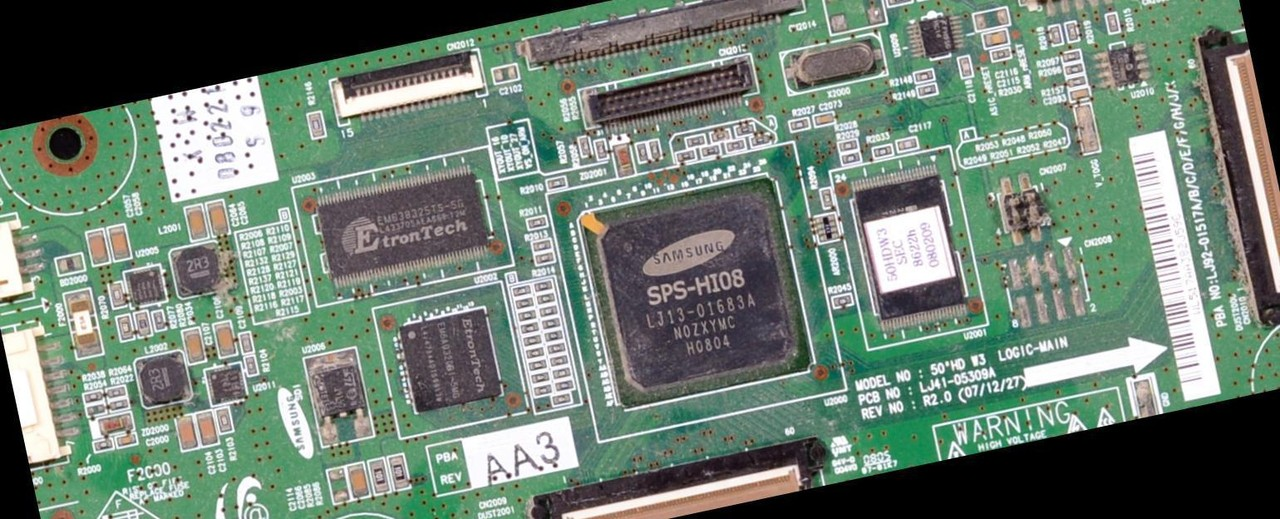Capacitor: (175, 416, 198, 450), (109, 224, 130, 260), (87, 230, 109, 264), (215, 323, 235, 356), (185, 328, 204, 362), (186, 206, 204, 237), (207, 203, 225, 234), (350, 466, 368, 497), (982, 30, 1008, 47), (494, 64, 518, 82), (200, 413, 214, 442), (814, 112, 835, 127), (897, 140, 917, 155), (958, 59, 972, 80), (241, 332, 252, 353), (116, 435, 135, 446), (1075, 91, 1087, 99)
IC: (579, 174, 815, 410), (318, 163, 491, 284), (851, 162, 968, 329), (399, 305, 503, 413), (309, 352, 372, 434), (122, 261, 169, 307), (208, 364, 249, 406), (918, 14, 958, 54), (1110, 46, 1144, 87)
Resistor: (389, 456, 406, 488), (370, 459, 386, 491), (304, 111, 322, 137), (215, 407, 232, 433), (136, 312, 153, 337), (117, 314, 133, 339), (871, 142, 892, 160), (1046, 23, 1061, 45), (111, 282, 124, 306), (1063, 19, 1077, 41), (549, 175, 569, 190), (528, 215, 548, 230), (86, 403, 108, 416), (110, 395, 129, 409), (594, 141, 607, 161), (537, 251, 557, 264), (154, 310, 166, 330), (93, 439, 113, 451), (1105, 14, 1118, 32), (833, 294, 851, 307), (729, 140, 748, 152), (790, 118, 810, 129), (993, 50, 1011, 62), (823, 189, 835, 207), (913, 70, 932, 81), (533, 237, 549, 250), (517, 296, 534, 308), (245, 358, 257, 375), (754, 132, 772, 143), (581, 139, 592, 156), (1069, 65, 1086, 76), (534, 279, 551, 290), (638, 142, 647, 162), (86, 392, 102, 403), (651, 140, 660, 159), (837, 141, 854, 151), (738, 125, 753, 136), (886, 0, 913, 6), (922, 85, 938, 95), (109, 388, 126, 397), (520, 310, 535, 320), (1068, 79, 1086, 87), (1064, 52, 1078, 62), (679, 151, 693, 161), (546, 315, 560, 325), (549, 342, 563, 352), (687, 137, 702, 146), (534, 384, 549, 393), (515, 285, 529, 294), (524, 324, 538, 333), (553, 356, 567, 365), (715, 128, 727, 138), (555, 369, 568, 378), (530, 361, 544, 369), (557, 393, 568, 403), (549, 330, 561, 339), (702, 149, 716, 156), (528, 336, 542, 343), (559, 381, 569, 390), (539, 296, 552, 302), (536, 371, 547, 378), (544, 308, 554, 315), (529, 348, 540, 354), (843, 156, 856, 161)
